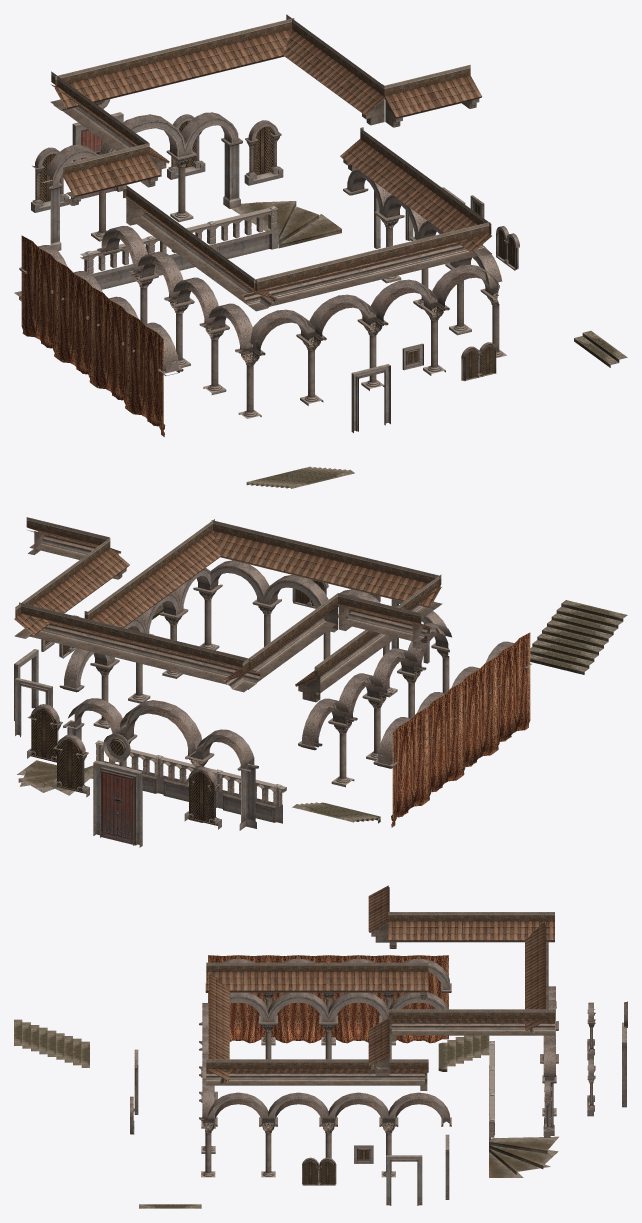
Rendered from show_build03.FBX.
3 renders of one model, top to bottom at view 1: azimuth 30°, elevation 25°; view 2: azimuth 150°, elevation 25°; view 3: azimuth 270°, elevation 25°, orthographic. The views are drawn at different scales.
Parts seen in each view (by area): view 1: show_build03; view 2: show_build03; view 3: show_build03.
Part boxes in pixels (left/top/right/bottom): show_build03: left=14, top=14, right=627, bottom=488; show_build03: left=14, top=517, right=627, bottom=847; show_build03: left=14, top=885, right=627, bottom=1208.
Bounding box in the file's own units: 2103 × 921 × 3103.
1 material, 1 textured.
